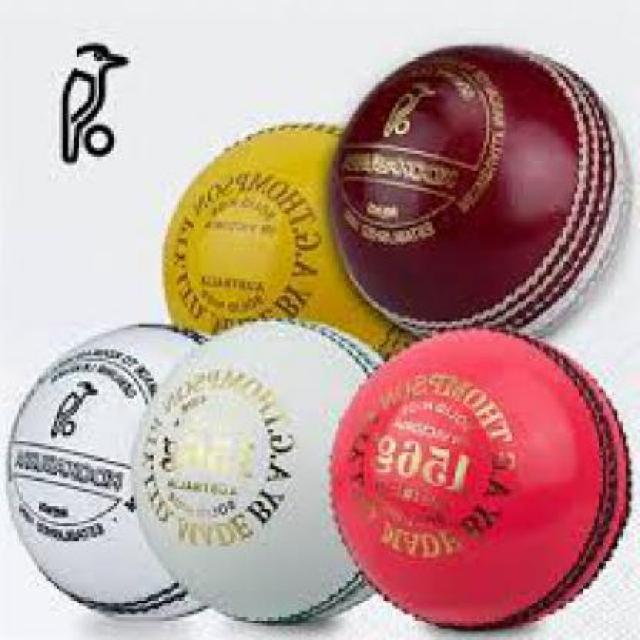ball: (322, 307, 636, 640)
